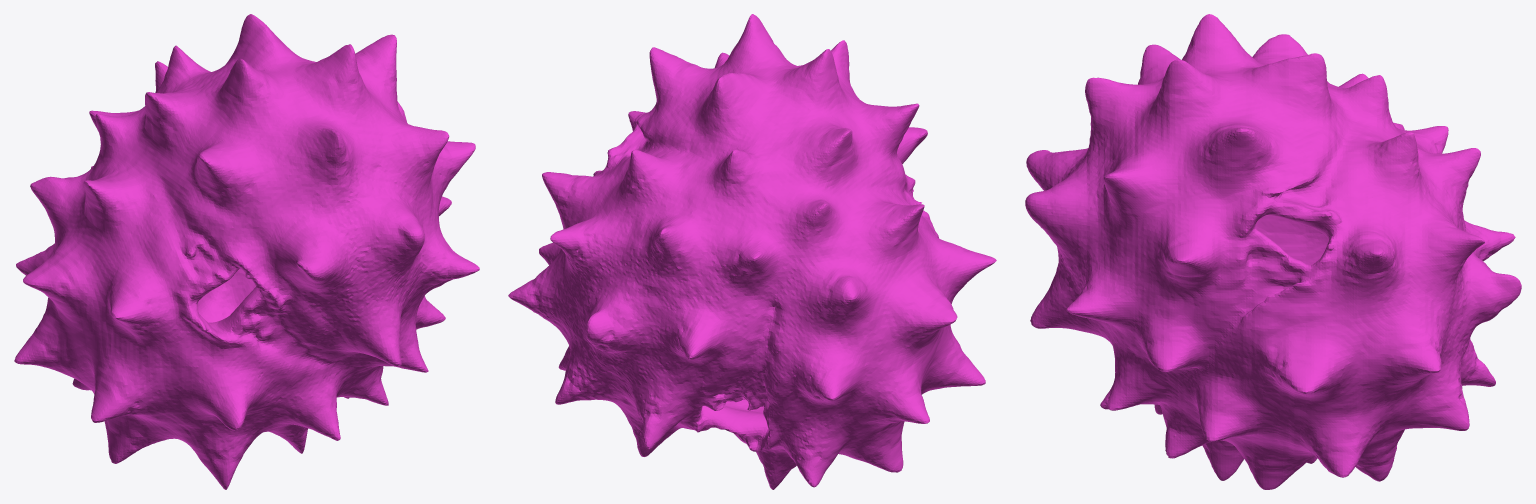
Rendered from Sap1.fbx.
3 renders of one model, left to right at view 1: azimuth 30°, elevation 25°; view 2: azimuth 150°, elevation 25°; view 3: azimuth 270°, elevation 25°, orthographic. The views are drawn at different scales.
Parts seen in each view (by area): view 1: Leucanthemum-vulgare-2500scale-000065544; view 2: Leucanthemum-vulgare-2500scale-000065544; view 3: Leucanthemum-vulgare-2500scale-000065544.
Part boxes in pixels (<box>): Leucanthemum-vulgare-2500scale-000065544: <box>14,14,479,489</box>; Leucanthemum-vulgare-2500scale-000065544: <box>508,14,996,489</box>; Leucanthemum-vulgare-2500scale-000065544: <box>1025,14,1521,489</box>.
Size of the model in its own units: 9141 by 8711 by 8737.
